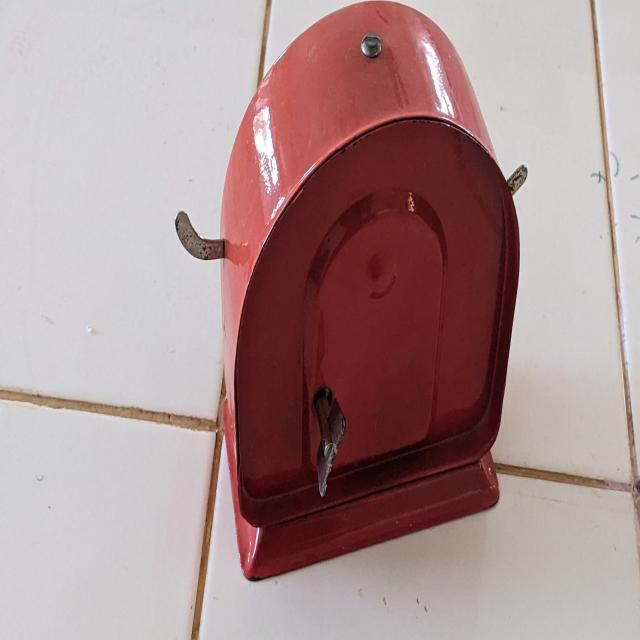Analog Stopwatch: (196, 1, 525, 572)
